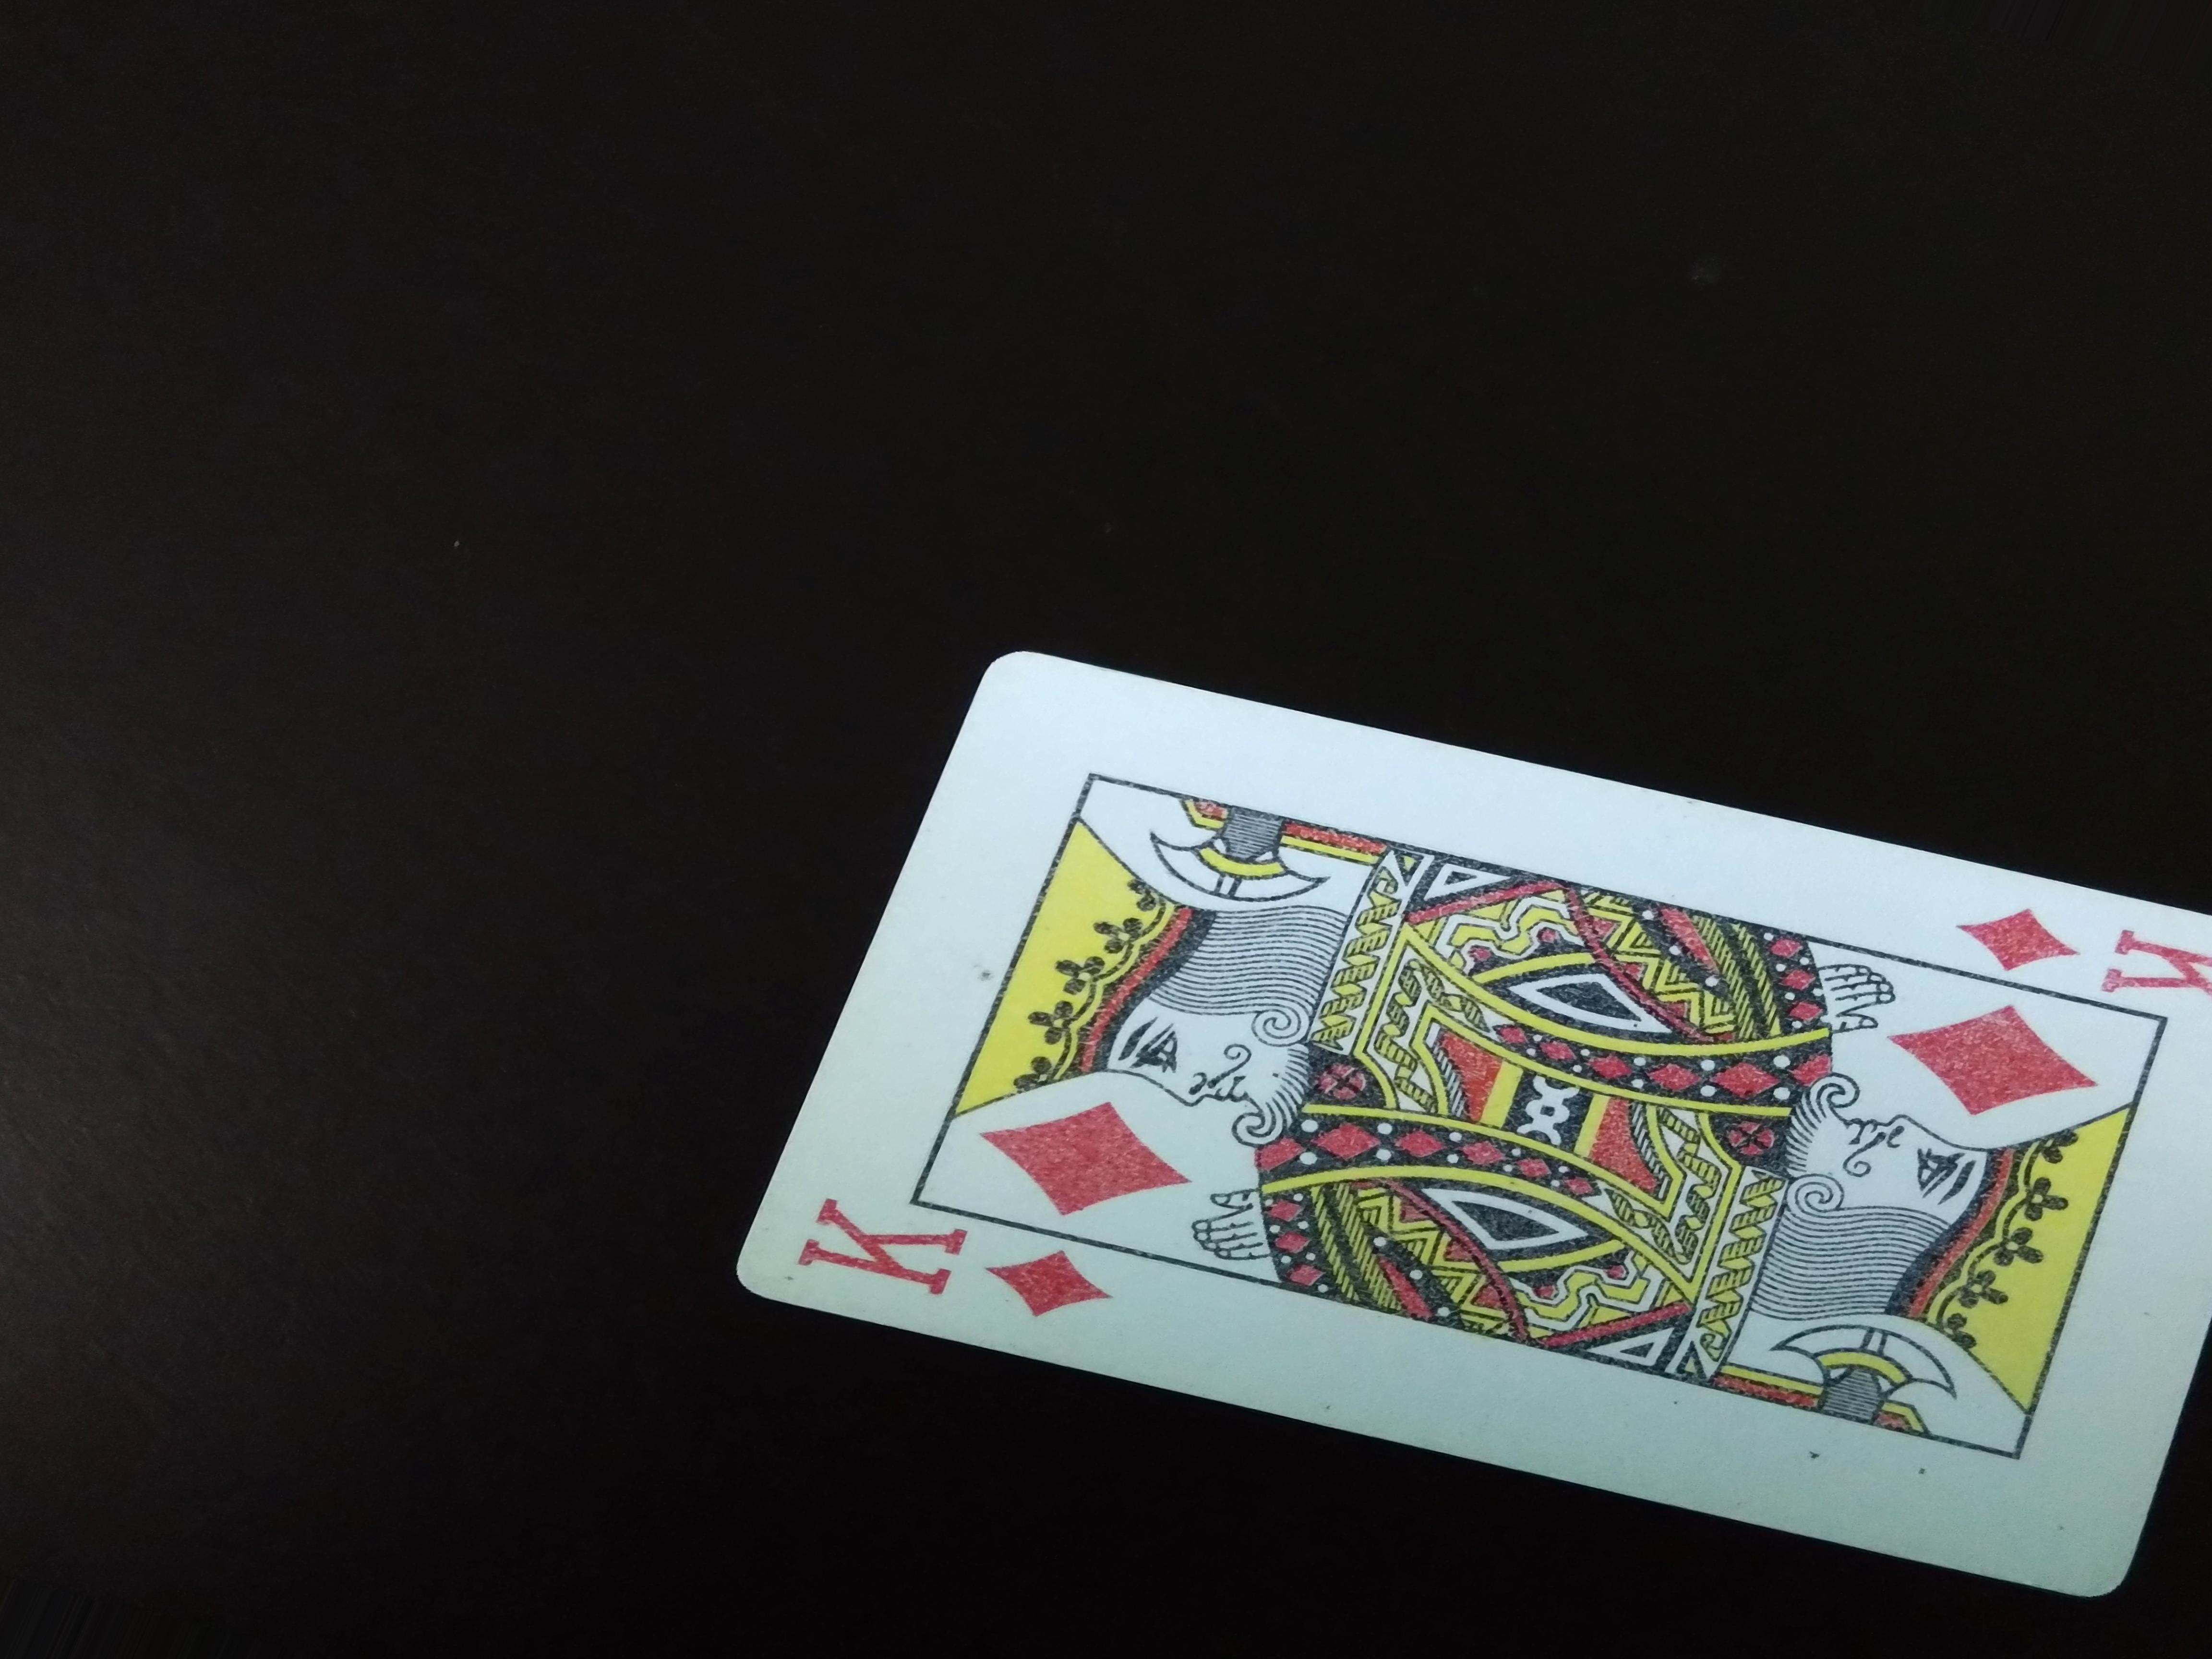KD: (799, 1187, 1103, 1335)
